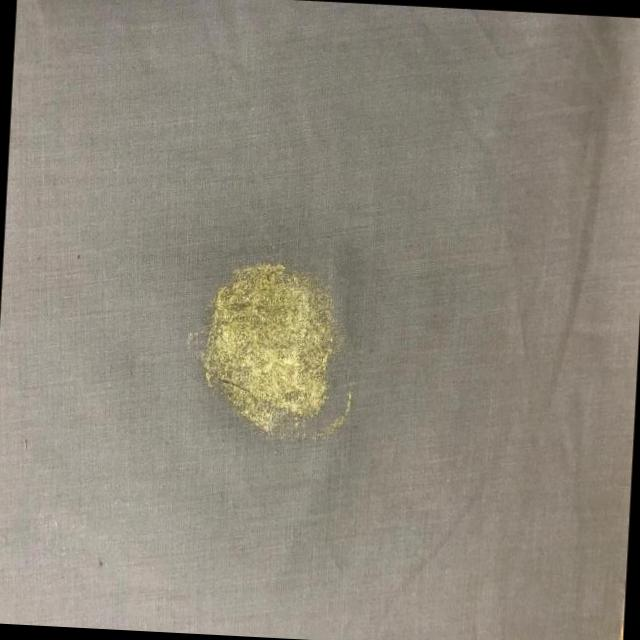Stain: (184, 253, 365, 448)
